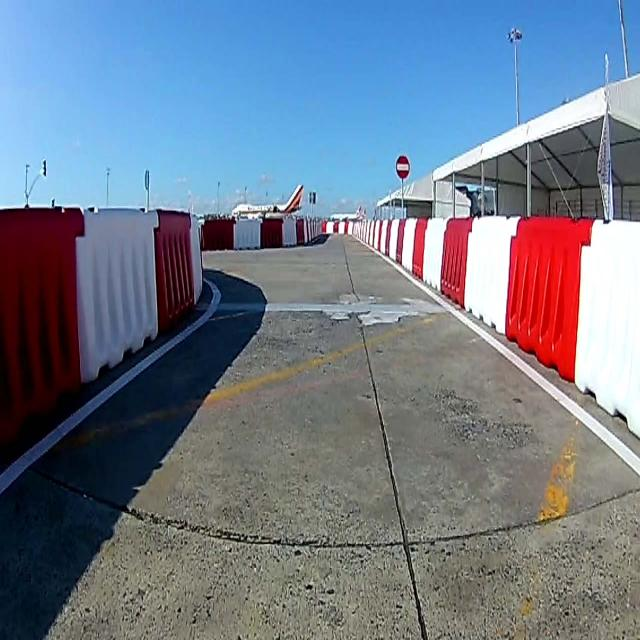girisyok: (395, 153, 410, 181)
